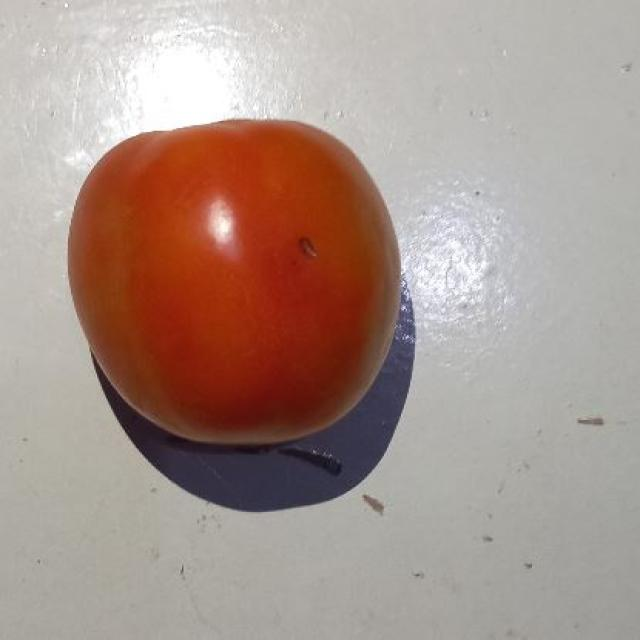ripe tomato: (62, 108, 397, 472)
